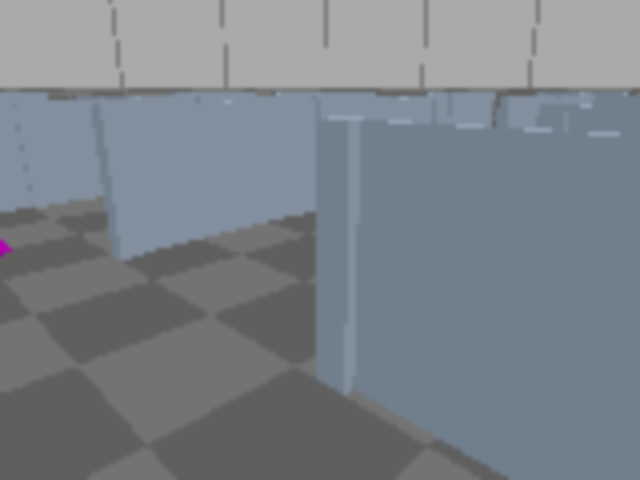goal_zone: (0, 229, 12, 283)
puck: (0, 360, 8, 417)
